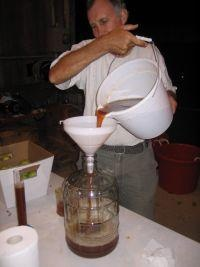person without safety: (62, 1, 171, 110)
